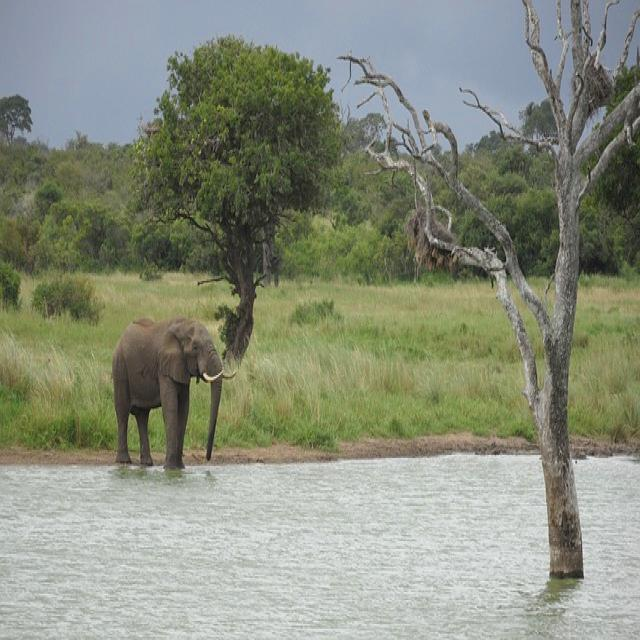FIL: (108, 314, 223, 465)
